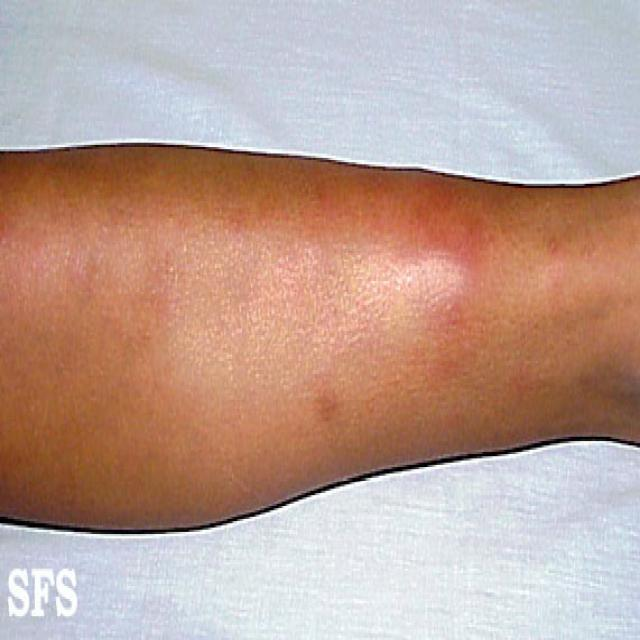Erythema nodosum: (54, 66, 562, 536)
